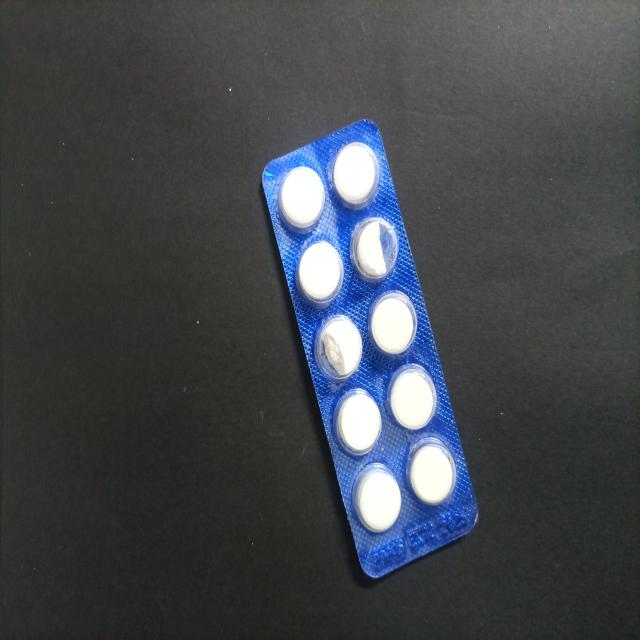defect: (347, 212, 401, 285), (312, 314, 365, 384)
